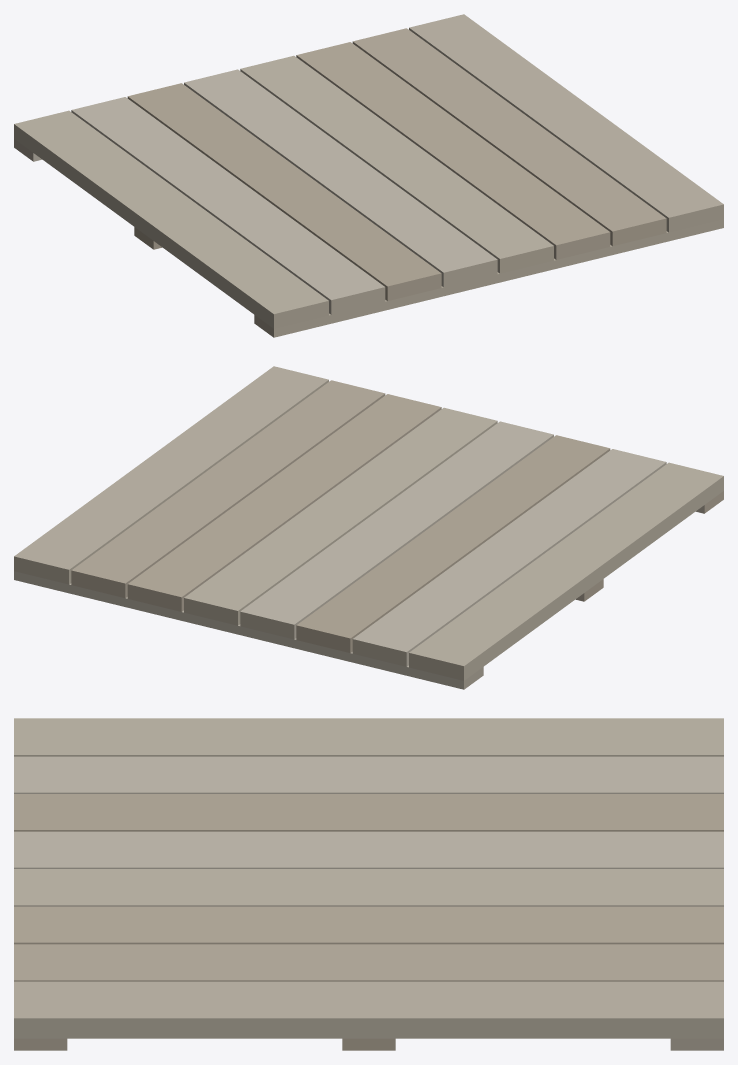
Rendered from Floor.glb.
3 views of the same model, one above another, from view 1: azimuth 30°, elevation 25°; view 2: azimuth 150°, elevation 25°; view 3: azimuth 270°, elevation 25° (orthographic). The views are drawn at different scales.
Visible parts, largest first — view 1: Wood; view 2: Wood; view 3: Wood.
Part boxes in pixels (box(x1,y1,x2,y2)): Wood: box(14, 14, 723, 337); Wood: box(14, 366, 723, 689); Wood: box(14, 718, 723, 1050).
Size of what is drawn, in the model's own units: 8 by 0.4 by 8.
